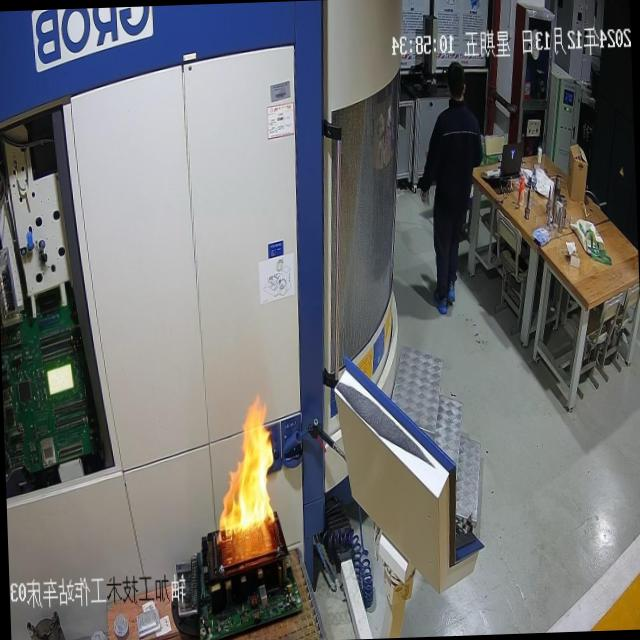fire: (194, 374, 295, 590)
